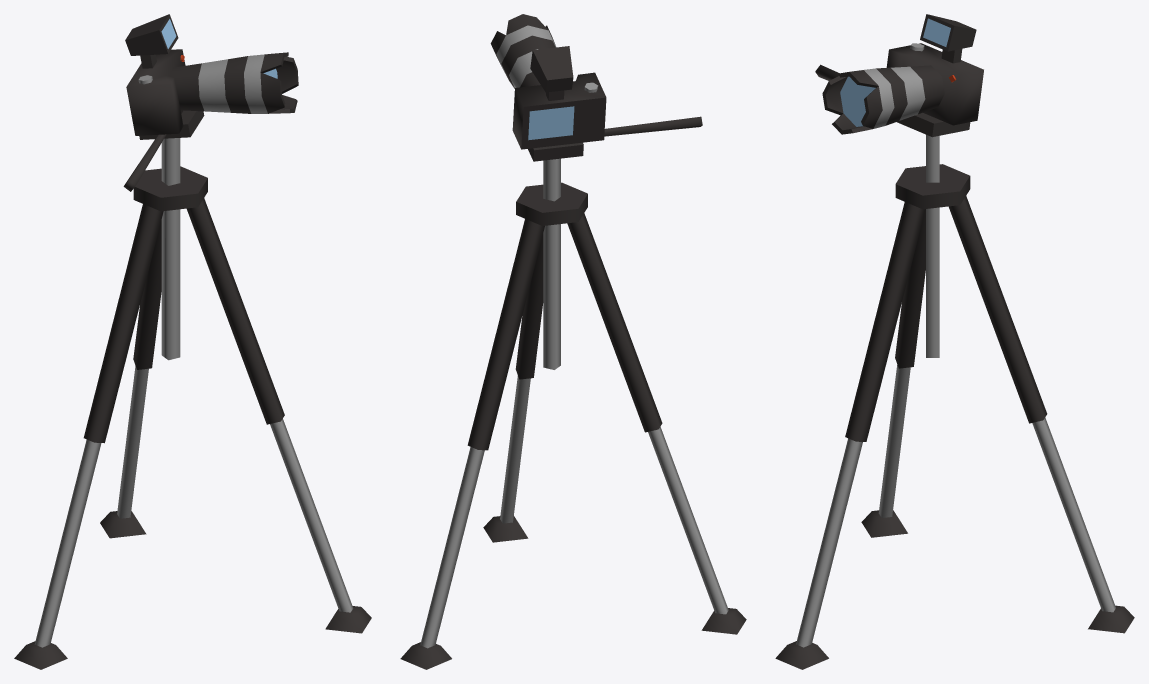
File: interior_D_005.fbx
3 renders of one model, left to right at view 1: azimuth 30°, elevation 25°; view 2: azimuth 150°, elevation 25°; view 3: azimuth 270°, elevation 25°, orthographic. The views are drawn at different scales.
Visible parts, largest first — view 1: interior_D_005; view 2: interior_D_005; view 3: interior_D_005.
Part boxes in pixels (x1,y1,x2,y2): interior_D_005: (14,14,371,669); interior_D_005: (400,14,746,669); interior_D_005: (775,14,1134,669).
Size of the model in its own units: 67.14 by 120 by 67.12.
